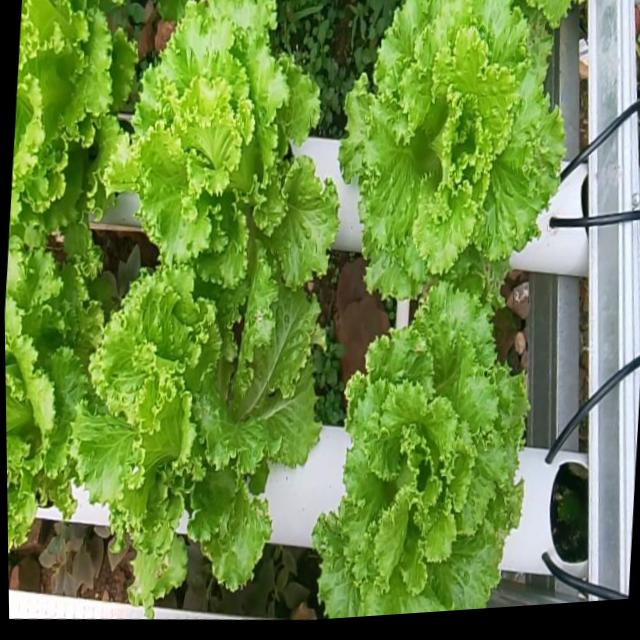Mature: (75, 263, 325, 589), (310, 279, 527, 619), (336, 0, 572, 299), (103, 0, 337, 286)
